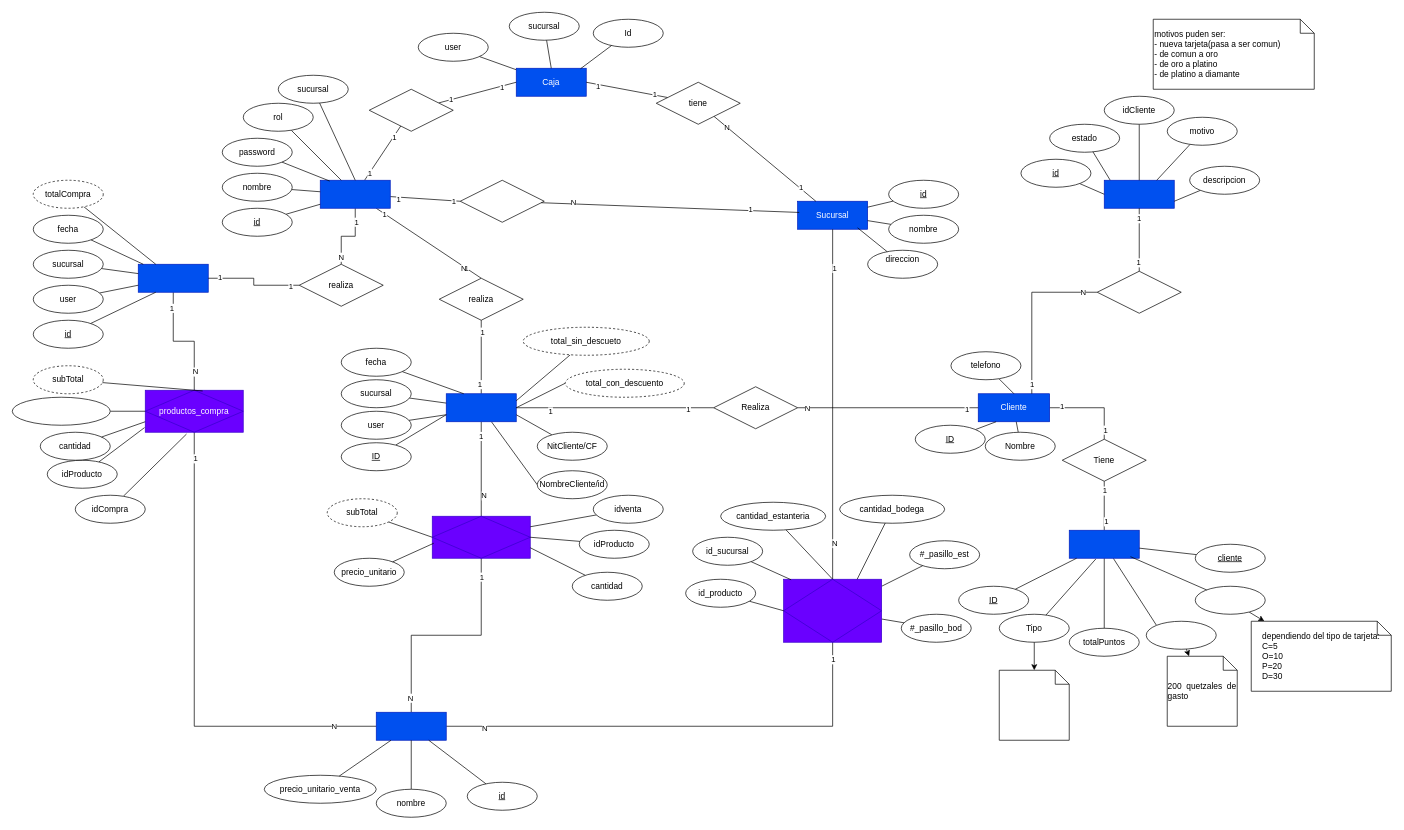
Image size: 1404x830. Some labels were removed from this diagram. The centre of each missing label's shape, as x and y in pixels:
"Atiende" goes at point (502, 201).
"Compra" goes at point (173, 278).
"encargado" goes at point (411, 110).
"gasto" goes at point (1181, 635).
"Hace" goes at point (1139, 292).
"precio_compra_unitario" goes at point (61, 411).
"producto_sucursal" goes at point (832, 610).
"Productos" goes at point (411, 726).
"productos_venta" goes at point (481, 537).
"puntosxgasto" goes at point (1230, 600).
"solicutudes-tarjetas" goes at point (1139, 194).
"TarjetaDescuento" goes at point (1104, 544).
"Tipos: - comun - oro - platino - diamante" goes at point (1034, 705).
"Usuario" goes at point (355, 194).
"Venta" goes at point (481, 407).
